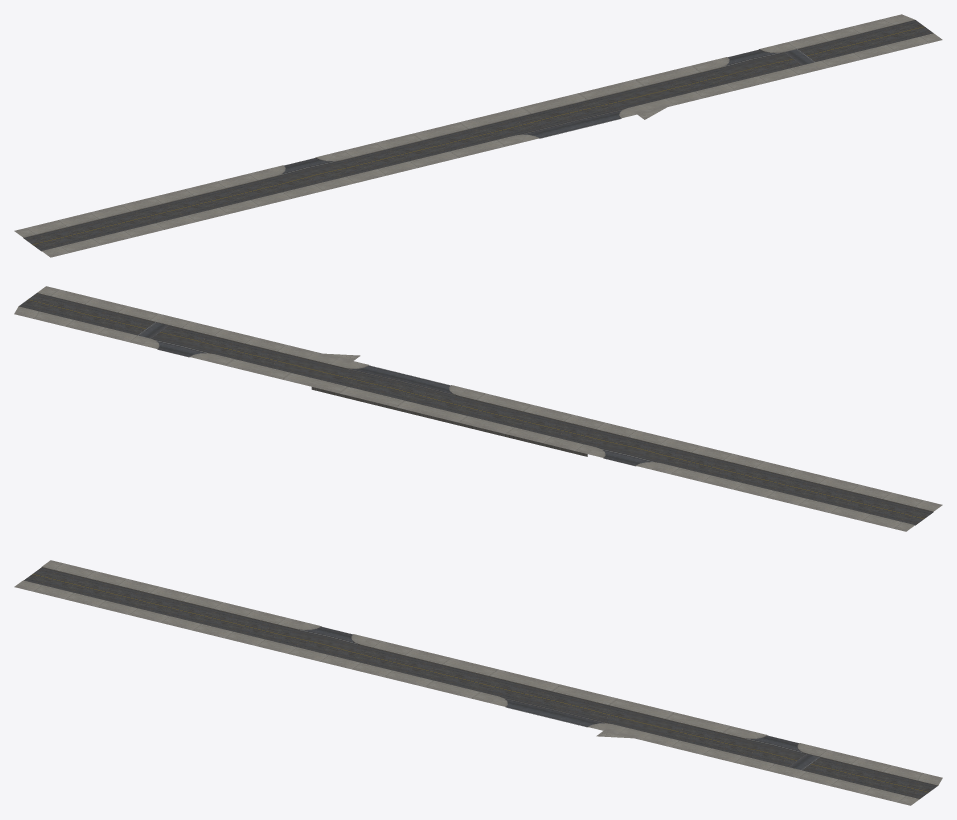
Rendered from vegasnroad083.obj.
3 renders of one model, top to bottom at view 1: azimuth 30°, elevation 25°; view 2: azimuth 150°, elevation 25°; view 3: azimuth 330°, elevation 25°, orthographic.
Parts seen in each view (by area): view 1: VegasNroad083; view 2: VegasNroad083; view 3: VegasNroad083.
Boxes of the visible parts, <box> form: VegasNroad083: <box>14,14,942,257</box>; VegasNroad083: <box>14,286,942,531</box>; VegasNroad083: <box>14,560,942,805</box>.
Size of the model in its own units: 281 by 0.9389 by 24.1.
5 materials, 5 textured.
